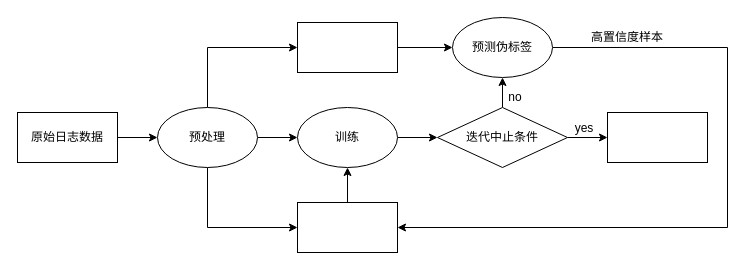
Some shapes in this 753 by 270 pixel diagram are drawn without their labels. The centre of each missing label's shape, as x and y in pixels:
无标注数据: point 347,47
最佳分类器: point 657,137
有标注数据: point 347,227
